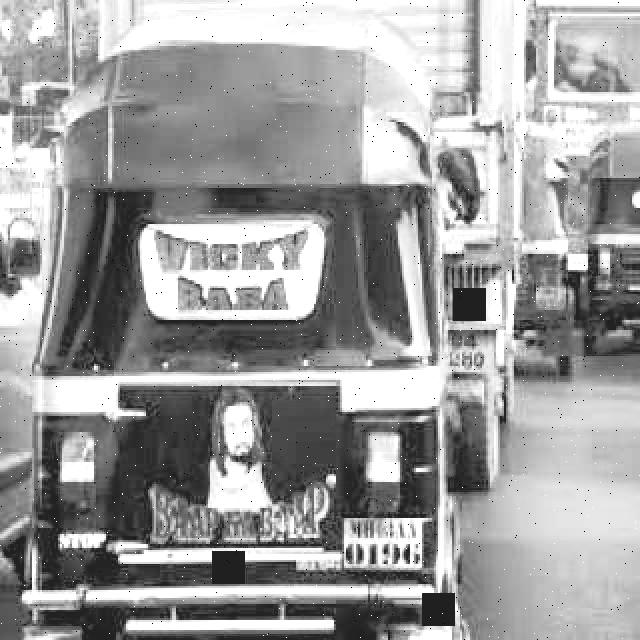Auto-Rickshaw: (32, 34, 480, 640)
